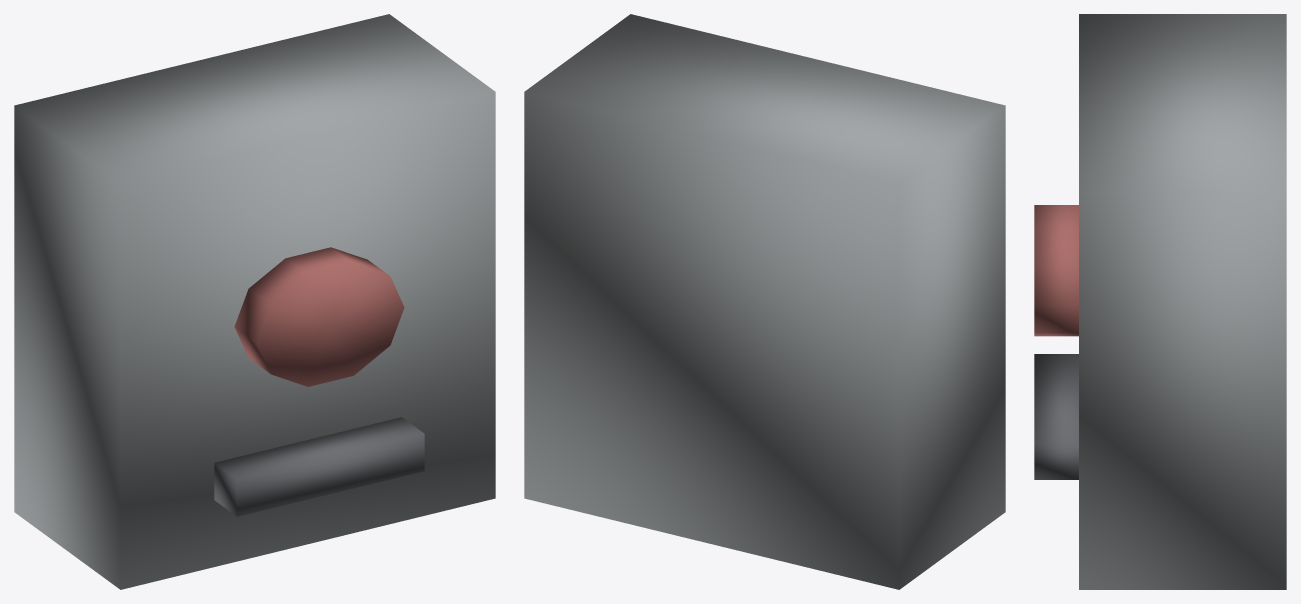
File: sanitation_dispenser__squat.glb
3 renders of one model, left to right at view 1: azimuth 30°, elevation 25°; view 2: azimuth 150°, elevation 25°; view 3: azimuth 270°, elevation 25°, orthographic. The views are drawn at different scales.
Parts seen in each view (by area): view 1: world; view 2: world; view 3: world.
Part boxes in pixels (x1,y1,x2,y2): world: (14,14,495,589); world: (524,14,1005,589); world: (1034,14,1286,589).
Size of the model in its own units: 0.308 by 0.3192 by 0.1836.
